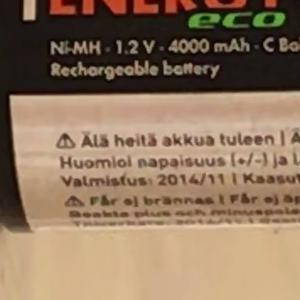NIMH: (42, 32, 97, 63)
